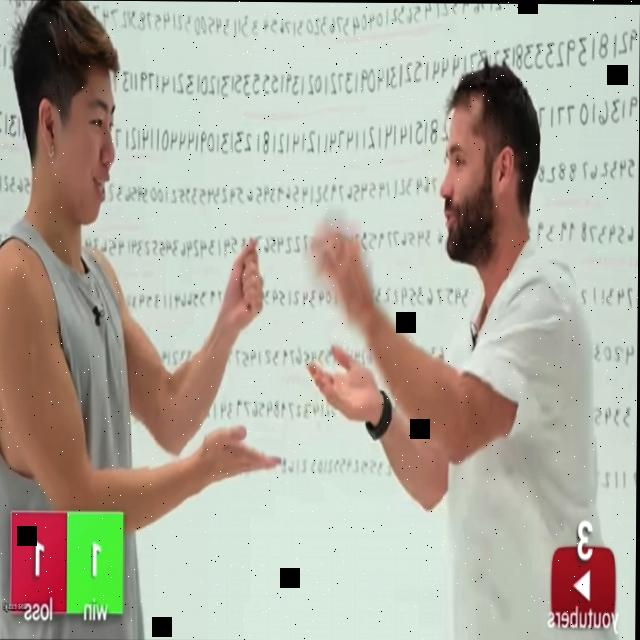Paper: (311, 223, 374, 328)
Rock: (228, 235, 265, 326)
